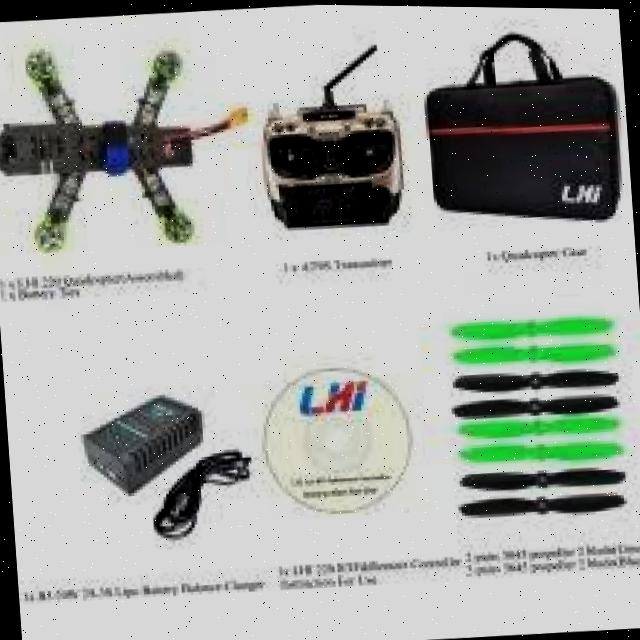drone: (0, 22, 254, 272)
